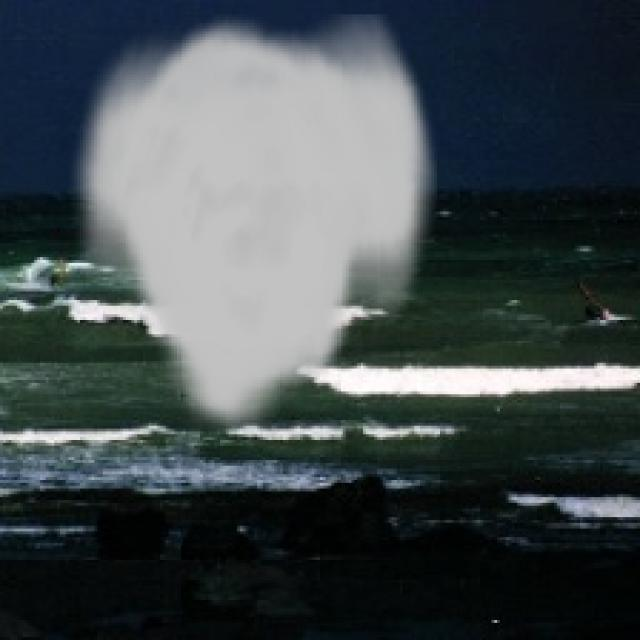Smoke: (66, 14, 437, 437)
